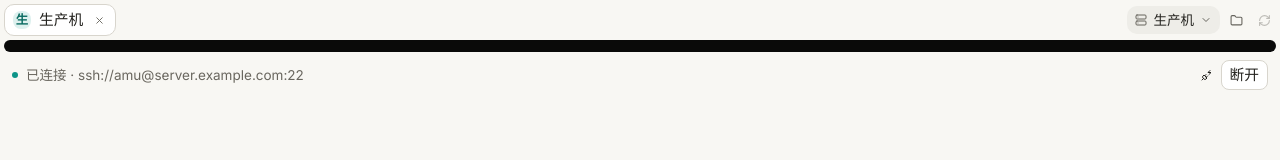
Test: SshTerminalPanel 终端态 › clears the selection when the active host tab is closed
This screenshot has width=1280, height=160.
Expected: the tab "生 生产机" is shown, [4,4,116,36]
What coordinates should you click on to do the following:
click the button named "关闭 生产机 会话"
I would click on:
 (99, 20)
Its box is [91,12,107,28].
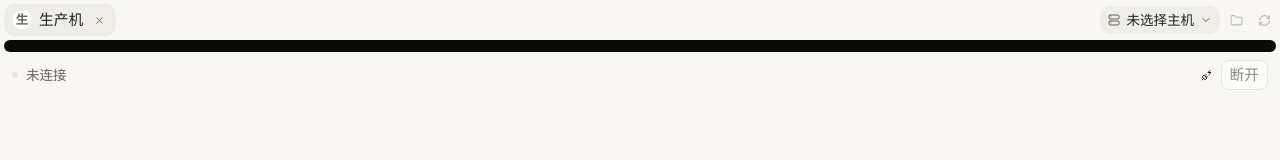
Expected: the text "未选择主机" is shown, [1126,10,1194,30]
